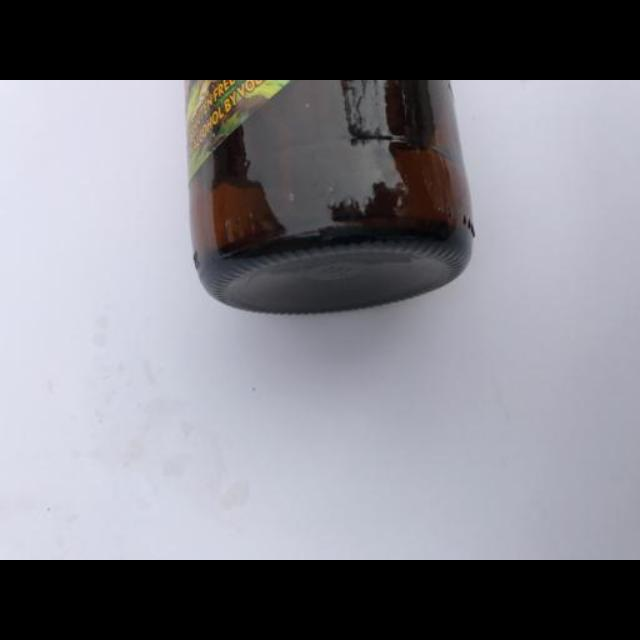garrafa de vidro: (182, 80, 474, 310)
